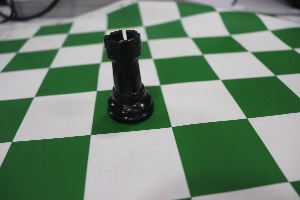black_rook: (93, 23, 161, 134)
